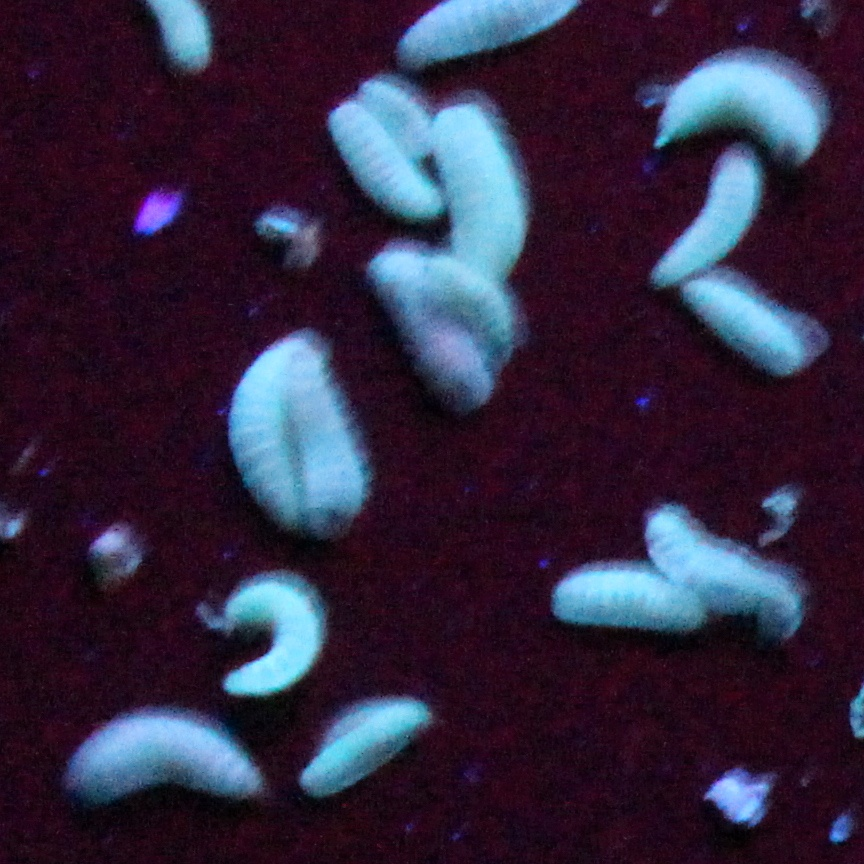larve: (371, 248, 515, 404), (431, 105, 526, 283), (654, 61, 819, 156), (70, 717, 257, 799), (645, 514, 797, 612), (232, 334, 305, 526), (284, 350, 361, 531), (653, 152, 757, 286), (327, 102, 441, 219), (683, 277, 812, 372), (223, 581, 318, 696), (302, 701, 424, 790), (554, 565, 704, 630), (357, 83, 436, 158)
